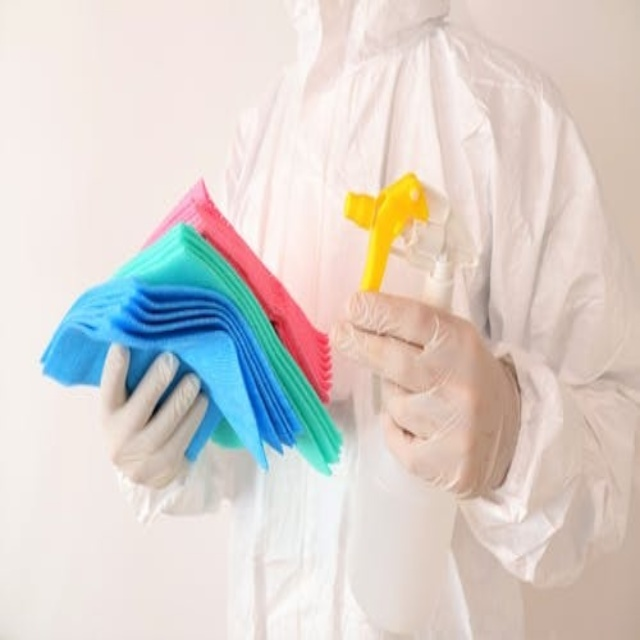Guantes: (334, 291, 519, 501), (98, 343, 212, 498)
